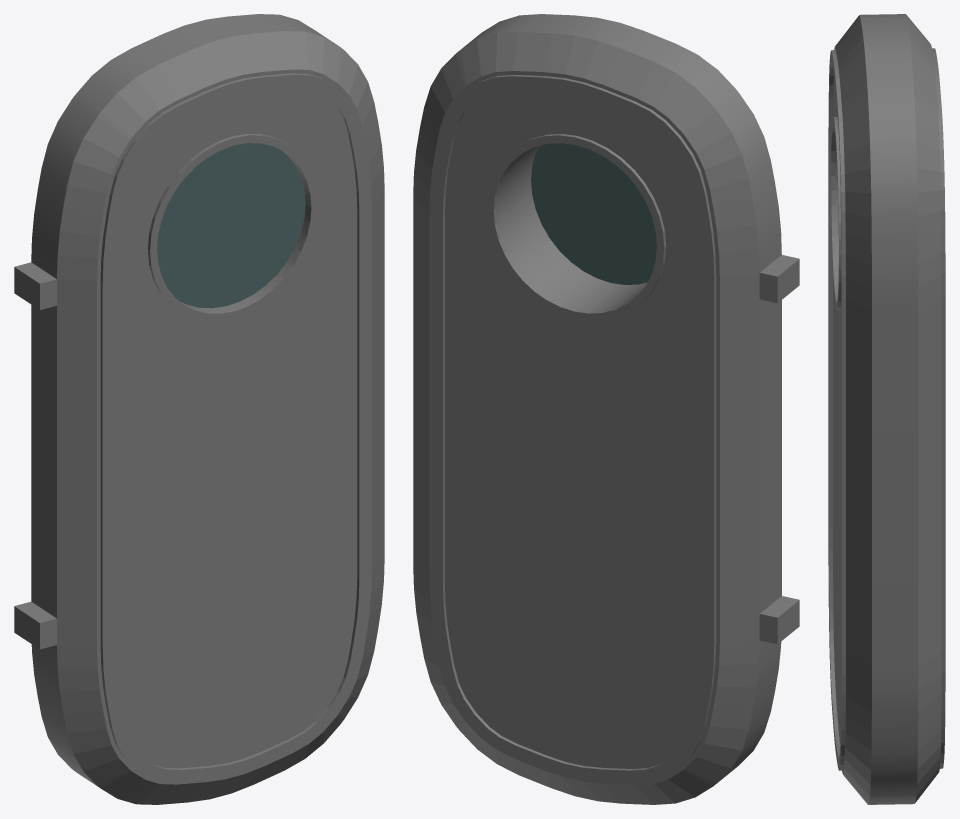
The model's file is door.FBX.
3 renders of one model, left to right at view 1: azimuth 30°, elevation 25°; view 2: azimuth 150°, elevation 25°; view 3: azimuth 270°, elevation 25°, orthographic. The views are drawn at different scales.
Parts seen in each view (by area): view 1: Box001, Box002; view 2: Box001, Box002; view 3: Box001.
Part boxes in pixels (box(x1,y1,x2,y2)): Box001: box(14, 14, 384, 804); Box002: box(157, 143, 305, 308); Box001: box(413, 14, 799, 804); Box002: box(531, 143, 656, 284); Box001: box(828, 14, 945, 804).
Bounding box in the file's own units: 19.22 × 39.08 × 5.64.
